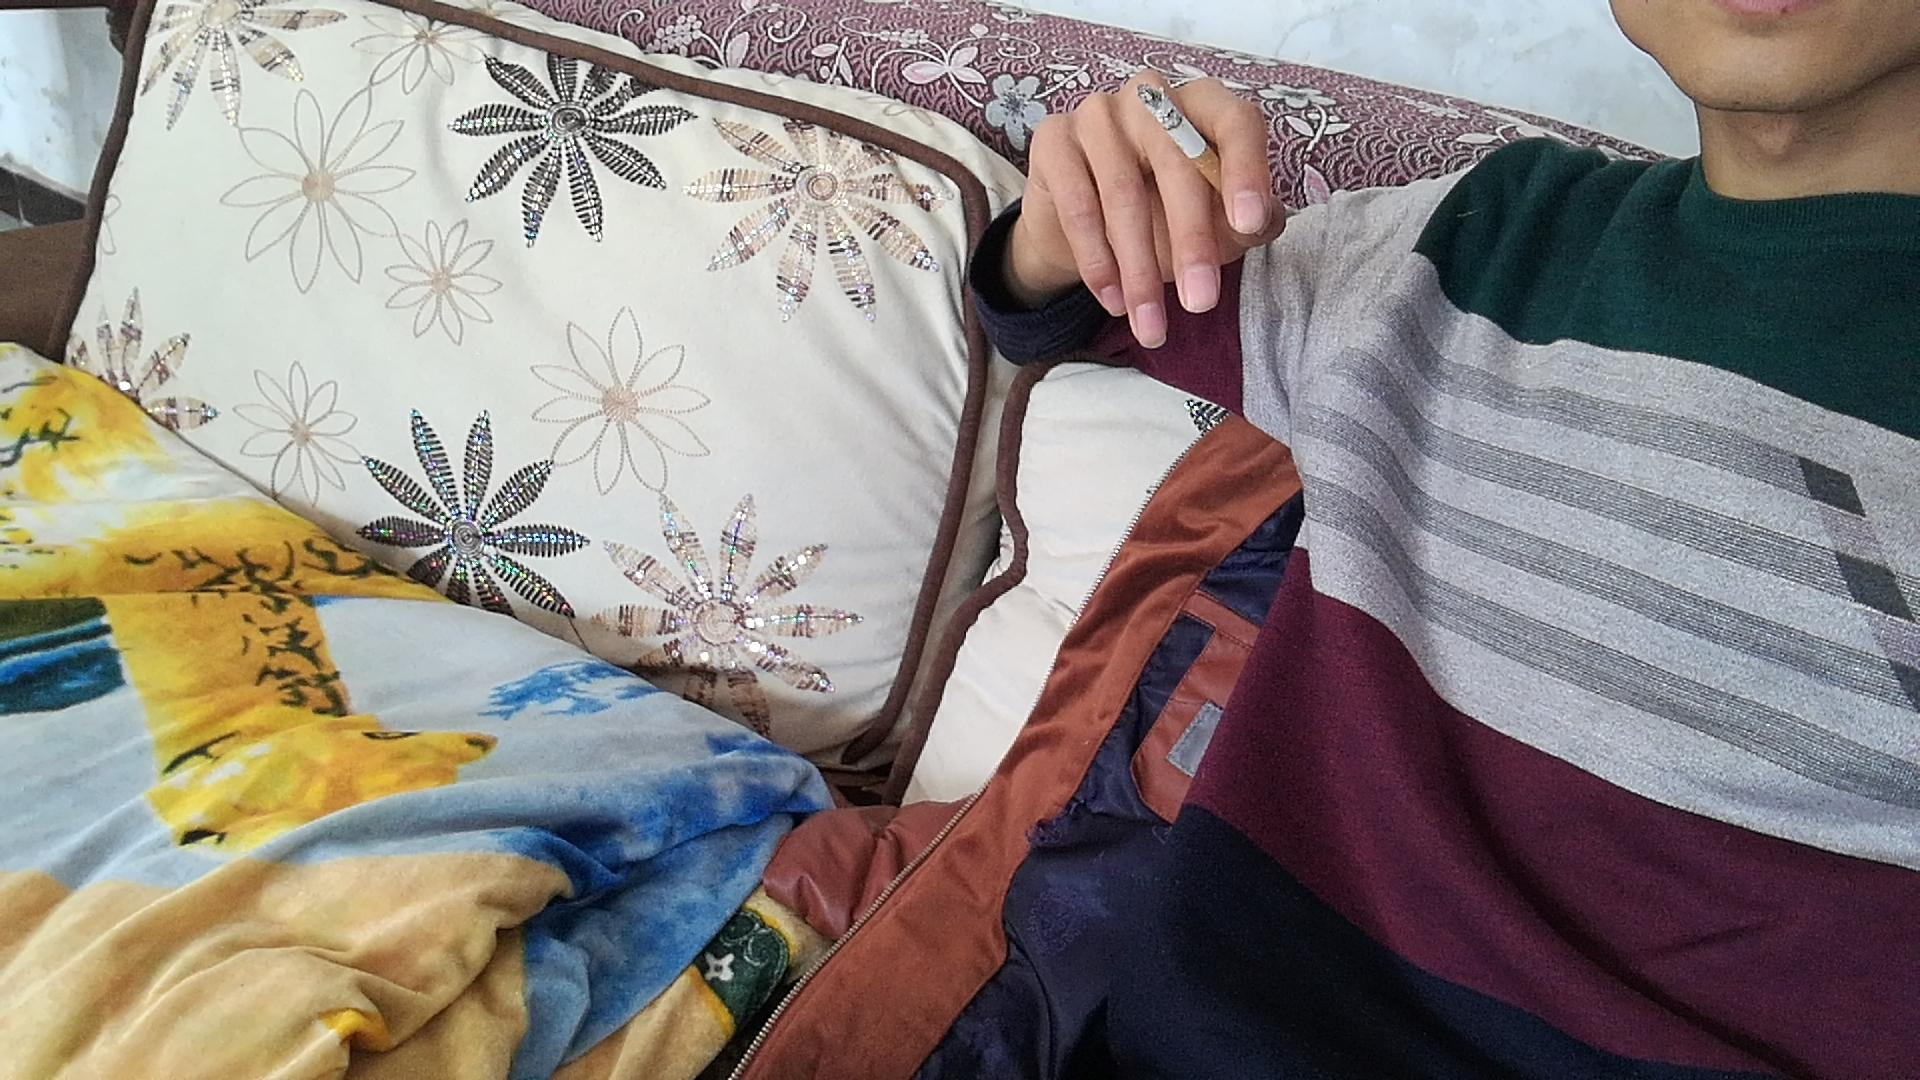Cigarette: (1135, 80, 1241, 200)
